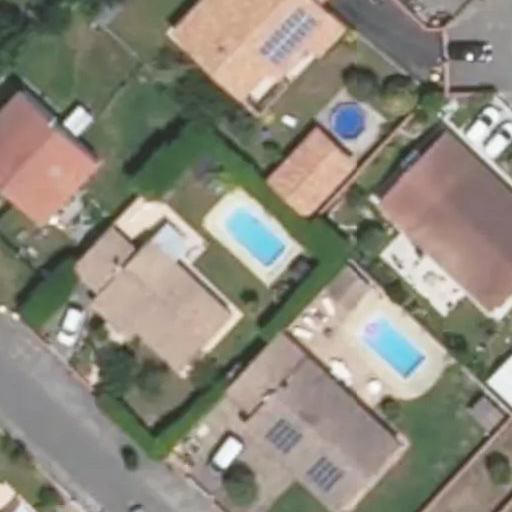pool: (219, 229, 292, 254)
